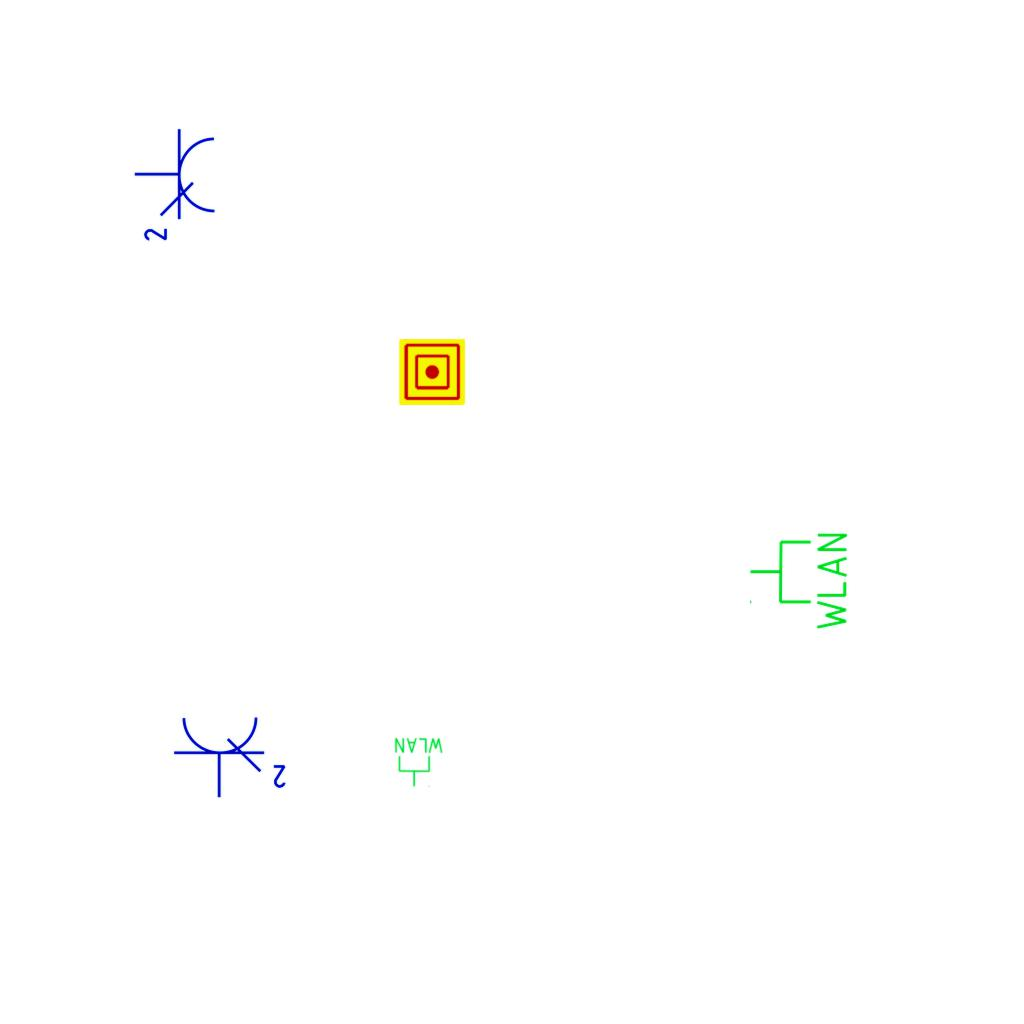NAM-Nichtautomatischer_Melder: (399, 339, 465, 405)
Schukosteckdose_mehrfach: (133, 127, 221, 248), (172, 711, 293, 799)
WLAN: (747, 529, 851, 634), (393, 736, 445, 788)
